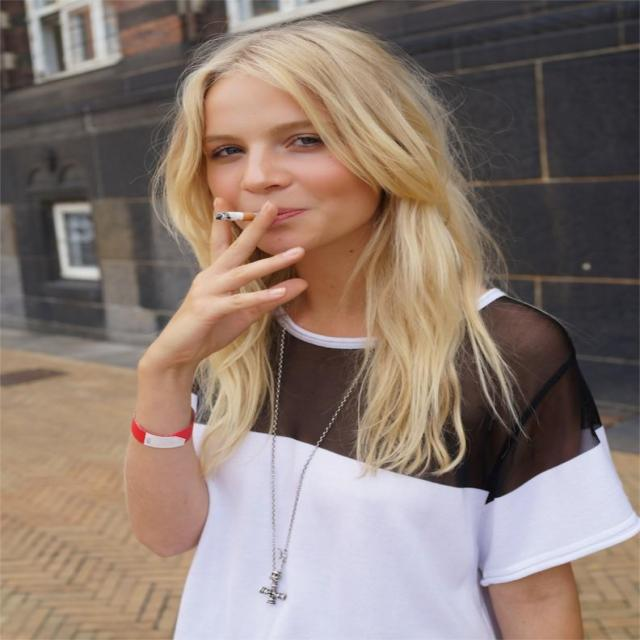cigarette: (203, 196, 292, 227)
